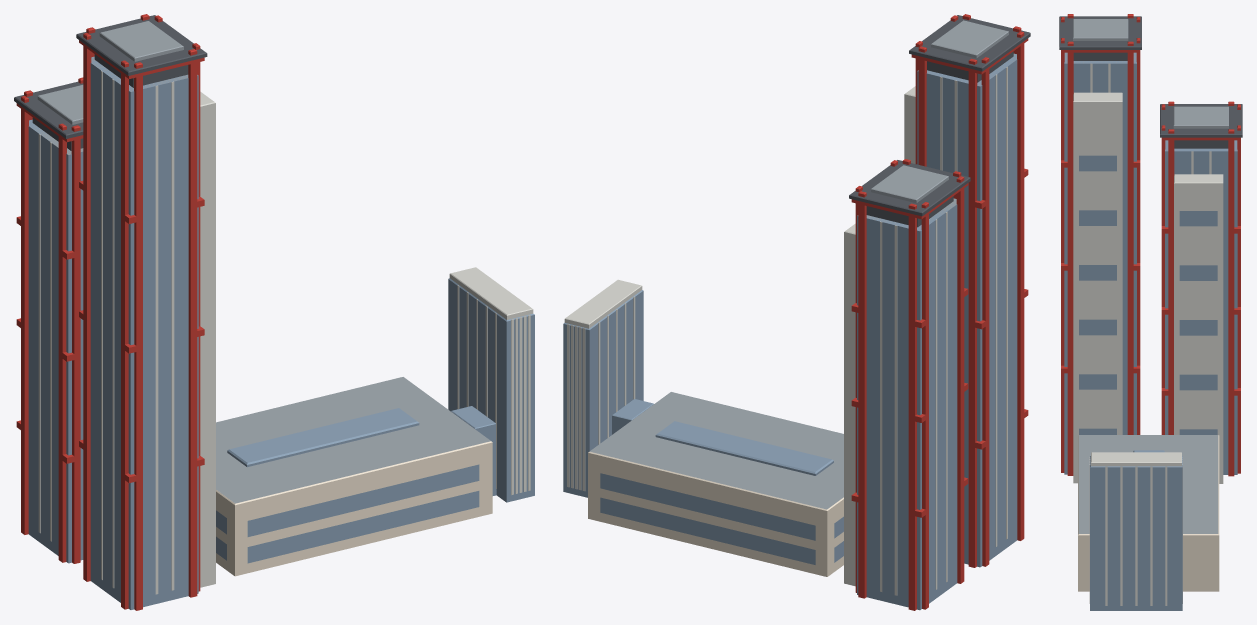
Rendered from seoul-parc1.glb.
3 renders of one model, left to right at view 1: azimuth 30°, elevation 25°; view 2: azimuth 150°, elevation 25°; view 3: azimuth 270°, elevation 25°, orthographic. The views are drawn at different scales.
Visible parts, largest first — view 1: Parc.1; view 2: Parc.1; view 3: Parc.1.
Boxes of the visible parts, left/top/right/bottom form: Parc.1: left=14, top=14, right=534, bottom=610; Parc.1: left=563, top=14, right=1030, bottom=610; Parc.1: left=1059, top=14, right=1242, bottom=610.
Size of the model in its own units: 272 by 333 by 128.
